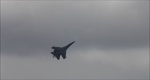maybay_muctieu: (48, 40, 77, 61)
